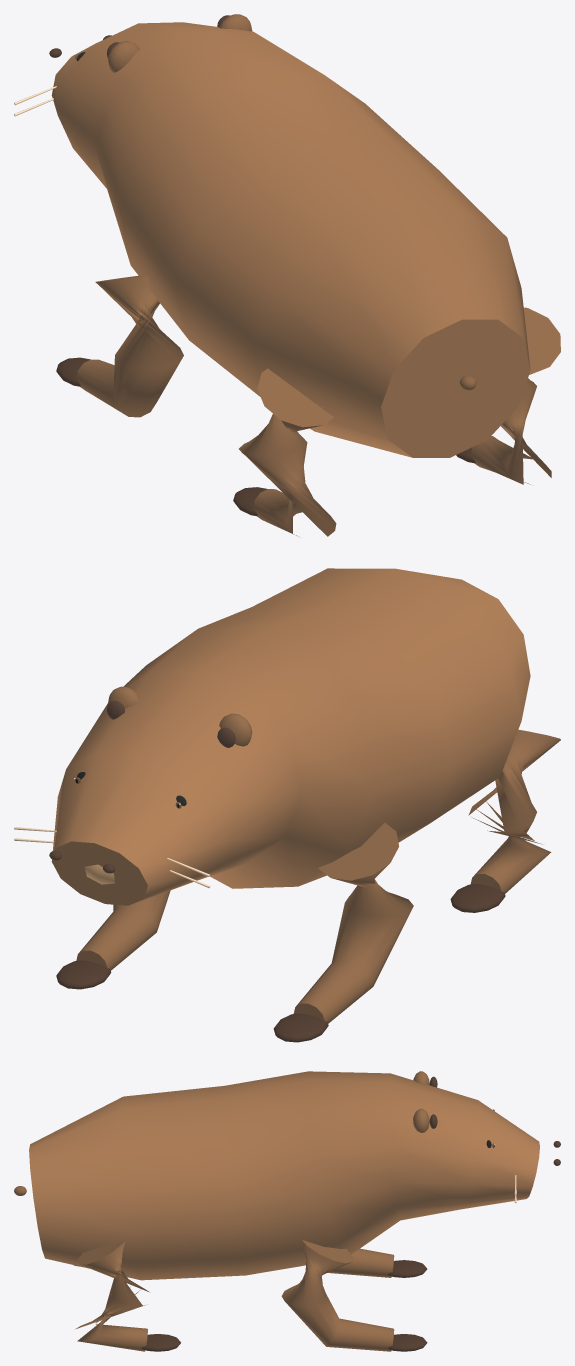
File: capybara_hero.glb
3 renders of one model, top to bottom at view 1: azimuth 30°, elevation 25°; view 2: azimuth 150°, elevation 25°; view 3: azimuth 270°, elevation 25°, orthographic. The views are drawn at different scales.
Visible parts, largest first — view 1: CapybaraOrganicBody, Leg_LH, Leg_LF, Leg_RH, RoundEar; view 2: CapybaraOrganicBody, Leg_LF, Leg_LH, Leg_RF, Paw_RF, Paw_LF, Paw_LH, RoundEar; view 3: CapybaraOrganicBody, Leg_RF, Leg_RH, Leg_LF, Paw_RH, Paw_LF, Paw_RF.
Part boxes in pixels (left/top/right/bottom): CapybaraOrganicBody: left=51, top=22, right=530, bottom=457; Leg_LH: left=239, top=368, right=336, bottom=536; Leg_LF: left=76, top=275, right=183, bottom=417; Leg_RH: left=470, top=307, right=560, bottom=484; RoundEar: left=108, top=41, right=139, bottom=72; CapybaraOrganicBody: left=51, top=568, right=530, bottom=905; Leg_LF: left=293, top=822, right=413, bottom=1023; Leg_LH: left=468, top=729, right=560, bottom=893; Leg_RF: left=76, top=890, right=170, bottom=970; Paw_RF: left=56, top=960, right=111, bottom=989; Paw_LF: left=273, top=1013, right=328, bottom=1042; Paw_LH: left=450, top=884, right=505, bottom=912; RoundEar: left=219, top=713, right=252, bottom=746; CapybaraOrganicBody: left=29, top=1071, right=539, bottom=1280; Leg_RF: left=281, top=1240, right=394, bottom=1351; Leg_RH: left=75, top=1240, right=149, bottom=1351; Leg_LF: left=327, top=1248, right=394, bottom=1277; Paw_RH: left=141, top=1334, right=180, bottom=1351; Paw_LF: left=388, top=1260, right=427, bottom=1277; Paw_RF: left=388, top=1334, right=427, bottom=1351.
Size of the model in its own units: 1.73 by 1.86 by 3.97.
